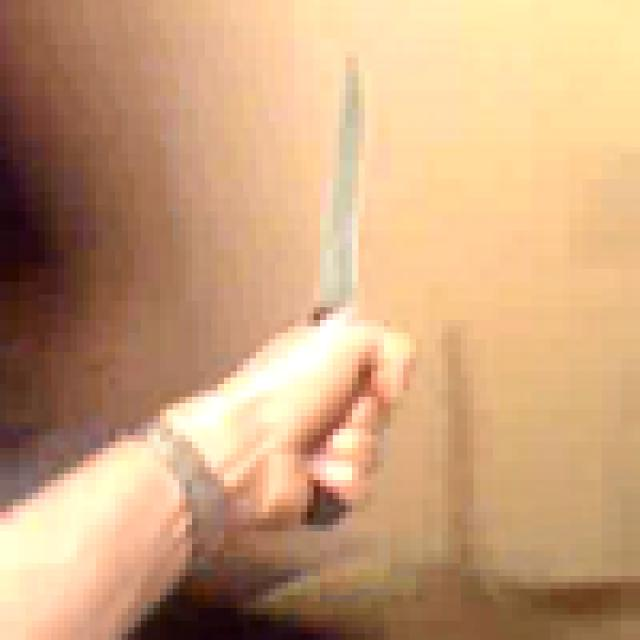Knife: (250, 32, 428, 518)
